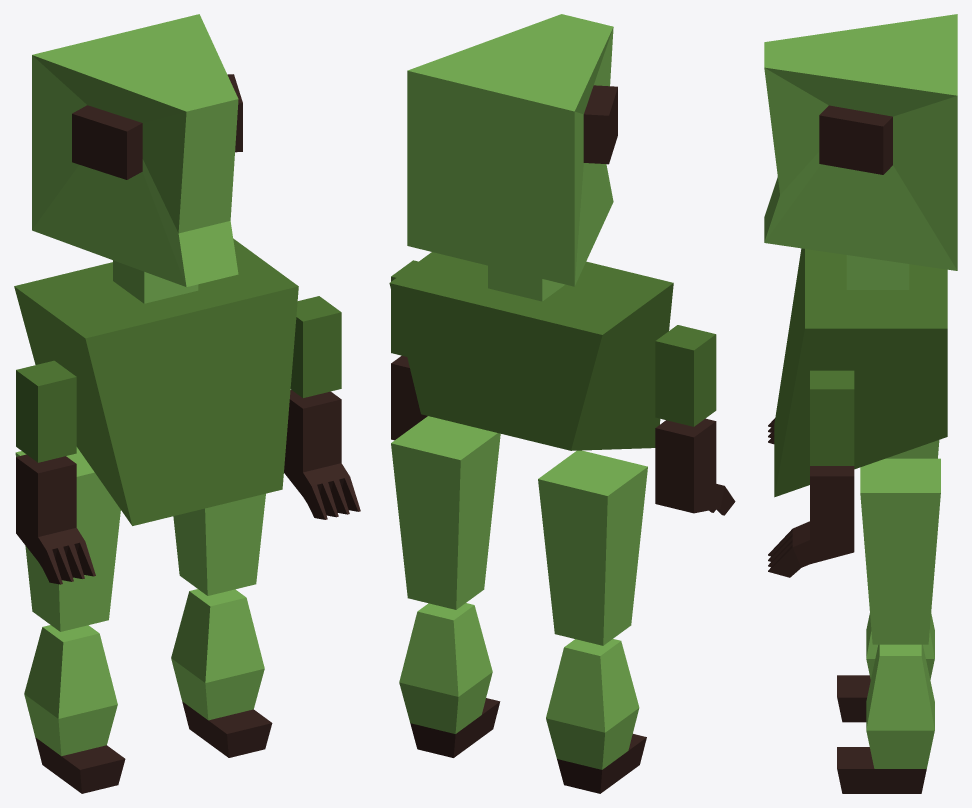
The model's file is JumpZombie.fbx.
The picture shows the model from 3 angles, left to right: view 1: azimuth 30°, elevation 25°; view 2: azimuth 150°, elevation 25°; view 3: azimuth 270°, elevation 25°; orthographic projection.
Parts seen in each view (by area): view 1: Cube.026, Cube.024, Cube.034, Cube.028, Cube.027, Cube.036, Cube.033, Cube.035, Cube.032, Cube.030, Cube.025; view 2: Cube.024, Cube.026, Cube.027, Cube.033, Cube.034, Cube.028, Cube.036, Cube.032, Cube.035, Cube.025, Cube.030; view 3: Cube.024, Cube.026, Cube.033, Cube.034, Cube.035, Cube.030, Cube.028, Cube.025, Cube.027.
Part boxes in pixels (bbox=[...]): Cube.026: bbox=[14, 238, 298, 525]; Cube.024: bbox=[32, 14, 242, 286]; Cube.034: bbox=[171, 589, 272, 757]; Cube.028: bbox=[24, 625, 125, 793]; Cube.027: bbox=[15, 447, 120, 631]; Cube.036: bbox=[16, 454, 95, 584]; Cube.033: bbox=[173, 493, 265, 595]; Cube.035: bbox=[284, 390, 360, 519]; Cube.032: bbox=[16, 360, 76, 462]; Cube.030: bbox=[290, 296, 341, 397]; Cube.025: bbox=[113, 260, 198, 303]; Cube.024: bbox=[407, 14, 617, 286]; Cube.026: bbox=[389, 252, 673, 450]; Cube.027: bbox=[538, 450, 647, 645]; Cube.033: bbox=[391, 416, 500, 609]; Cube.034: bbox=[399, 603, 500, 757]; Cube.028: bbox=[546, 639, 646, 793]; Cube.036: bbox=[655, 418, 735, 515]; Cube.032: bbox=[655, 325, 716, 426]; Cube.035: bbox=[391, 356, 427, 440]; Cube.025: bbox=[488, 265, 565, 301]; Cube.030: bbox=[391, 260, 418, 356]; Cube.024: bbox=[764, 14, 957, 270]; Cube.026: bbox=[774, 248, 947, 497]; Cube.033: bbox=[860, 458, 940, 644]; Cube.034: bbox=[837, 644, 934, 793]; Cube.035: bbox=[768, 466, 854, 577]; Cube.030: bbox=[810, 370, 854, 465]; Cube.028: bbox=[837, 613, 934, 722]; Cube.025: bbox=[846, 255, 909, 289]; Cube.027: bbox=[886, 440, 939, 458].
Bounding box in the file's own units: 404 × 884 × 223.
